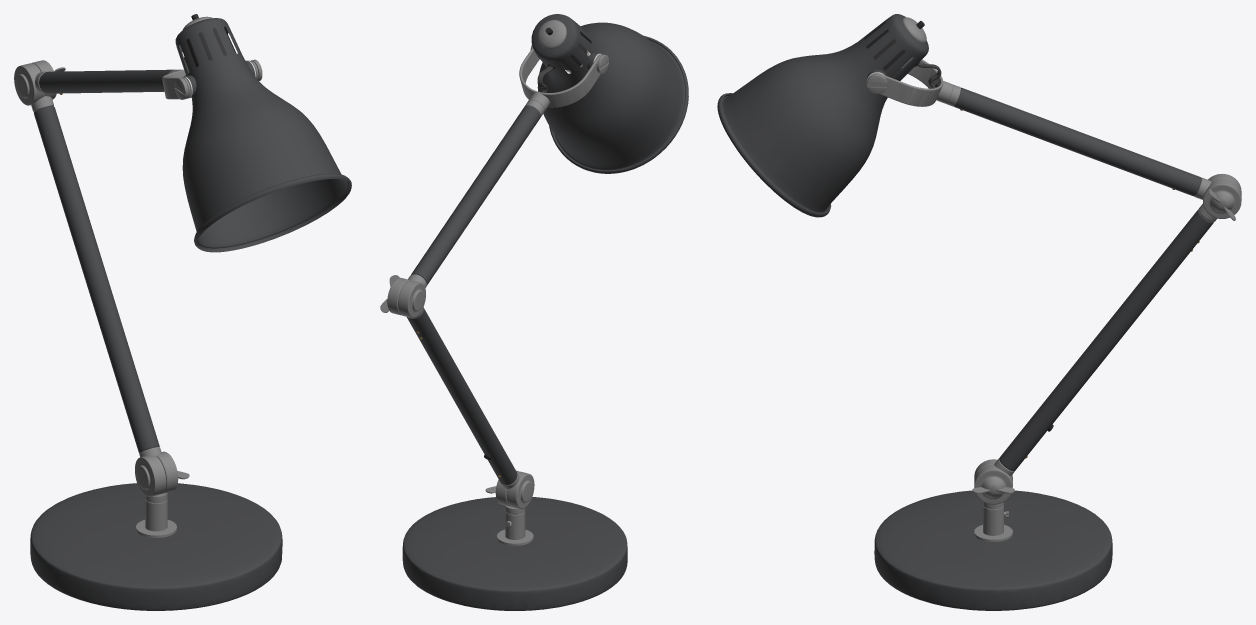
File: desk_lamp.glb
The picture shows the model from 3 angles, left to right: view 1: azimuth 30°, elevation 25°; view 2: azimuth 150°, elevation 25°; view 3: azimuth 270°, elevation 25°; orthographic projection. The views are drawn at different scales.
Parts seen in each view (by area): view 1: Cylinder_Material.001_0; view 2: Cylinder_Material.001_0; view 3: Cylinder_Material.001_0.
Boxes of the visible parts, box(x1,y1,x2,y2) form: Cylinder_Material.001_0: box(14, 16, 351, 610); Cylinder_Material.001_0: box(387, 14, 688, 610); Cylinder_Material.001_0: box(717, 14, 1241, 610).
Bounding box in the file's own units: 0.5114 × 1.29 × 1.13.
Materials: 2 (2 with a texture image).
